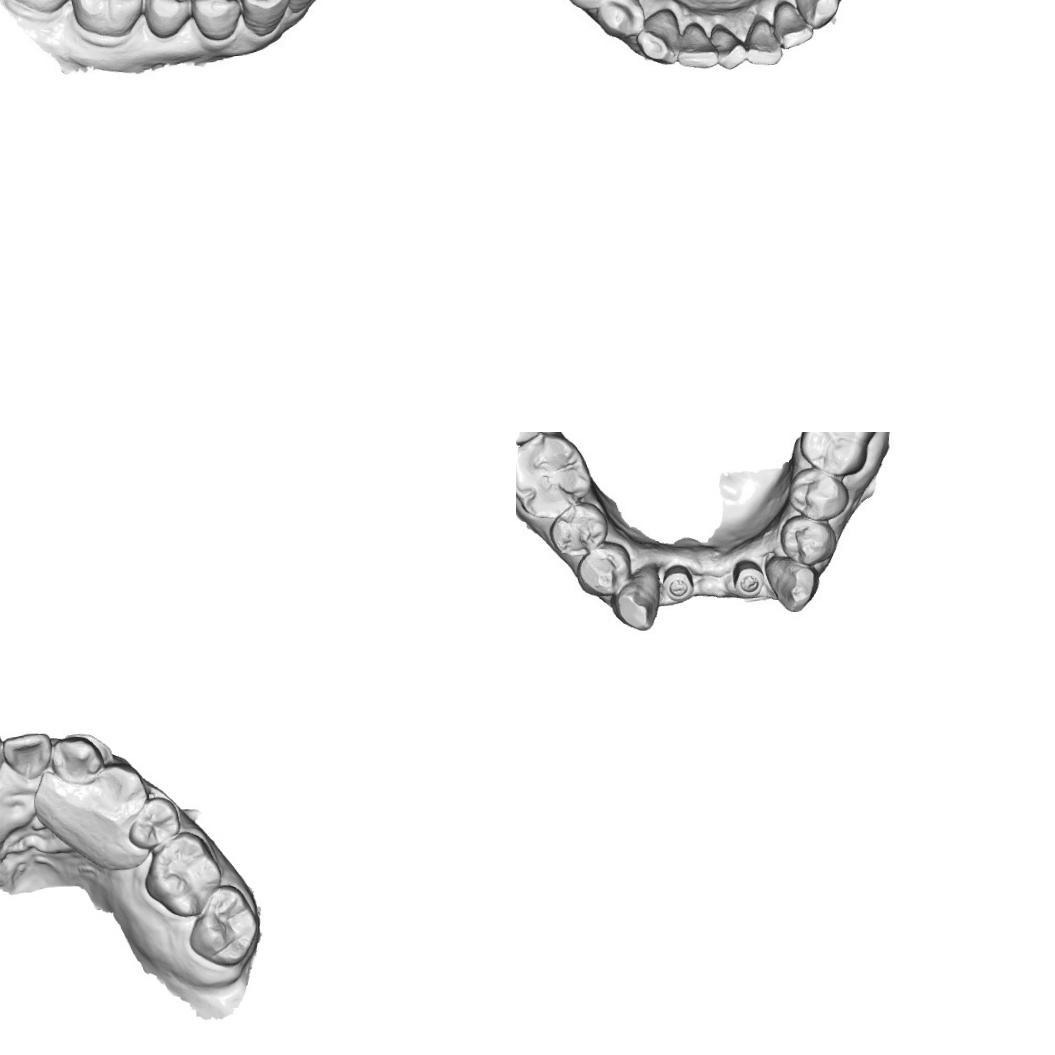canine: (632, 3, 686, 68), (767, 554, 821, 618), (614, 566, 662, 635), (48, 731, 104, 785), (241, 0, 290, 38), (791, 0, 847, 29)
implant: (664, 566, 692, 606), (735, 560, 763, 598)
incisor: (0, 730, 53, 781), (771, 0, 815, 51), (744, 12, 781, 70), (676, 22, 718, 71), (710, 20, 746, 72), (277, 0, 331, 22)
molar: (140, 828, 224, 920), (185, 882, 260, 969), (516, 432, 589, 521), (61, 0, 149, 44), (798, 432, 873, 478)
premolar: (788, 464, 855, 522), (86, 761, 148, 822), (548, 500, 610, 560), (125, 794, 183, 850), (780, 514, 842, 566), (572, 543, 627, 598), (185, 0, 244, 44), (139, 0, 198, 40), (594, 0, 644, 39)
